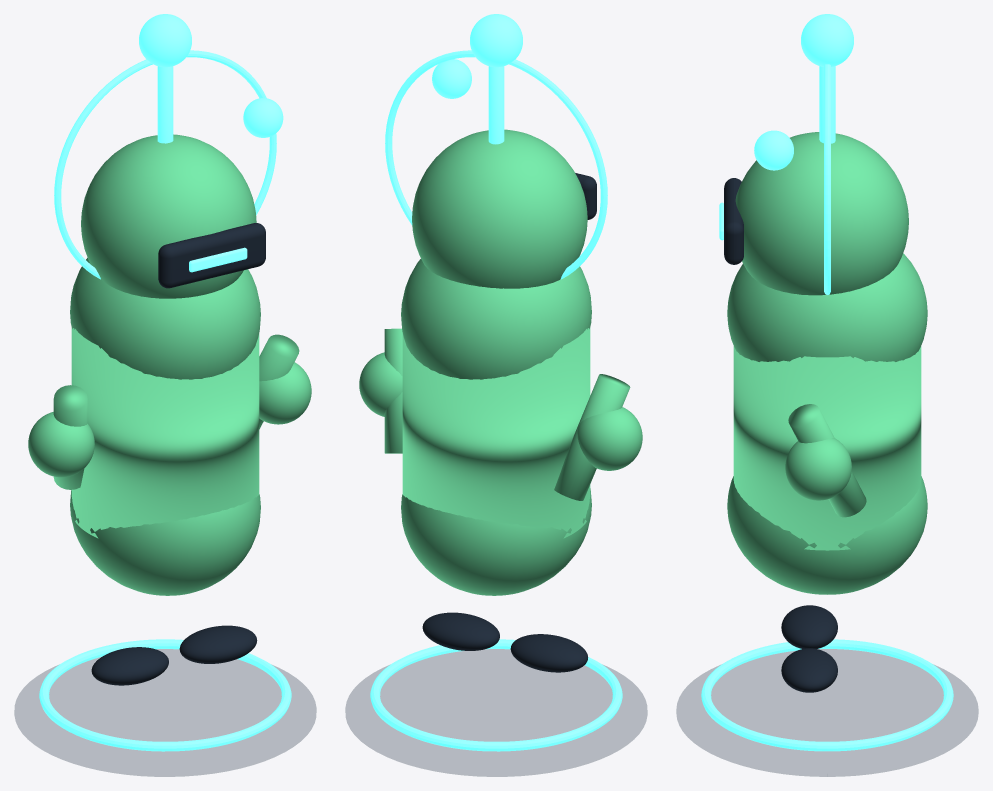
Rendered from sonar.glb.
The picture shows the model from 3 angles, left to right: view 1: azimuth 30°, elevation 25°; view 2: azimuth 150°, elevation 25°; view 3: azimuth 270°, elevation 25°; orthographic projection.
Visible parts, largest first — view 1: sonar_soft_body, sonar_soft_contact_shadow, sonar_head, sonar_upper_round, sonar_lower_round, sonar_ground_shadow_ring, sonar_visor, sonar_scan_orbit, sonar_left_hand, sonar_right_hand, sonar_left_foot, sonar_right_foot (+6 smaller); view 2: sonar_soft_body, sonar_soft_contact_shadow, sonar_head, sonar_upper_round, sonar_lower_round, sonar_ground_shadow_ring, sonar_scan_orbit, sonar_left_hand, sonar_left_arm, sonar_left_foot, sonar_right_foot, sonar_scan_dot (+5 smaller); view 3: sonar_soft_body, sonar_soft_contact_shadow, sonar_head, sonar_upper_round, sonar_lower_round, sonar_ground_shadow_ring, sonar_right_hand, sonar_scan_dot, sonar_right_arm, sonar_right_foot, sonar_left_foot, sonar_scan_orbit (+3 smaller).
Part boxes in pixels (box(x1,y1,x2,y2)): sonar_soft_body: box(71, 328, 259, 538); sonar_soft_contact_shadow: box(14, 649, 316, 776); sonar_head: box(81, 134, 256, 298); sonar_upper_round: box(70, 258, 260, 379); sonar_lower_round: box(70, 490, 260, 595); sonar_ground_shadow_ring: box(39, 639, 291, 751); sonar_visor: box(158, 223, 265, 288); sonar_scan_orbit: box(54, 50, 276, 279); sonar_left_hand: box(28, 412, 94, 477); sonar_right_hand: box(259, 362, 311, 424); sonar_left_foot: box(91, 647, 168, 685); sonar_right_foot: box(179, 625, 257, 663); sonar_soft_body: box(402, 328, 590, 538); sonar_soft_contact_shadow: box(345, 649, 647, 776); sonar_head: box(412, 129, 587, 288); sonar_upper_round: box(401, 259, 591, 379); sonar_lower_round: box(401, 488, 591, 595); sonar_ground_shadow_ring: box(370, 639, 622, 751); sonar_scan_orbit: box(385, 50, 607, 279); sonar_left_hand: box(577, 407, 642, 470); sonar_left_arm: box(554, 374, 630, 500); sonar_left_foot: box(510, 634, 587, 672); sonar_right_foot: box(422, 612, 499, 650); sonar_scan_dot: box(470, 14, 522, 67); sonar_soft_body: box(733, 346, 921, 550); sonar_soft_contact_shadow: box(676, 649, 978, 776); sonar_head: box(735, 132, 908, 295); sonar_upper_round: box(727, 253, 927, 361); sonar_lower_round: box(727, 476, 927, 594); sonar_ground_shadow_ring: box(701, 639, 953, 751); sonar_right_hand: box(785, 438, 851, 500); sonar_scan_dot: box(801, 14, 853, 66); sonar_right_arm: box(788, 404, 866, 517); sonar_right_foot: box(781, 648, 837, 692); sonar_left_foot: box(781, 605, 837, 648); sonar_scan_orbit: box(824, 64, 830, 294).
Bounding box in the file's own units: 0.7132 × 1.73 × 0.68.
